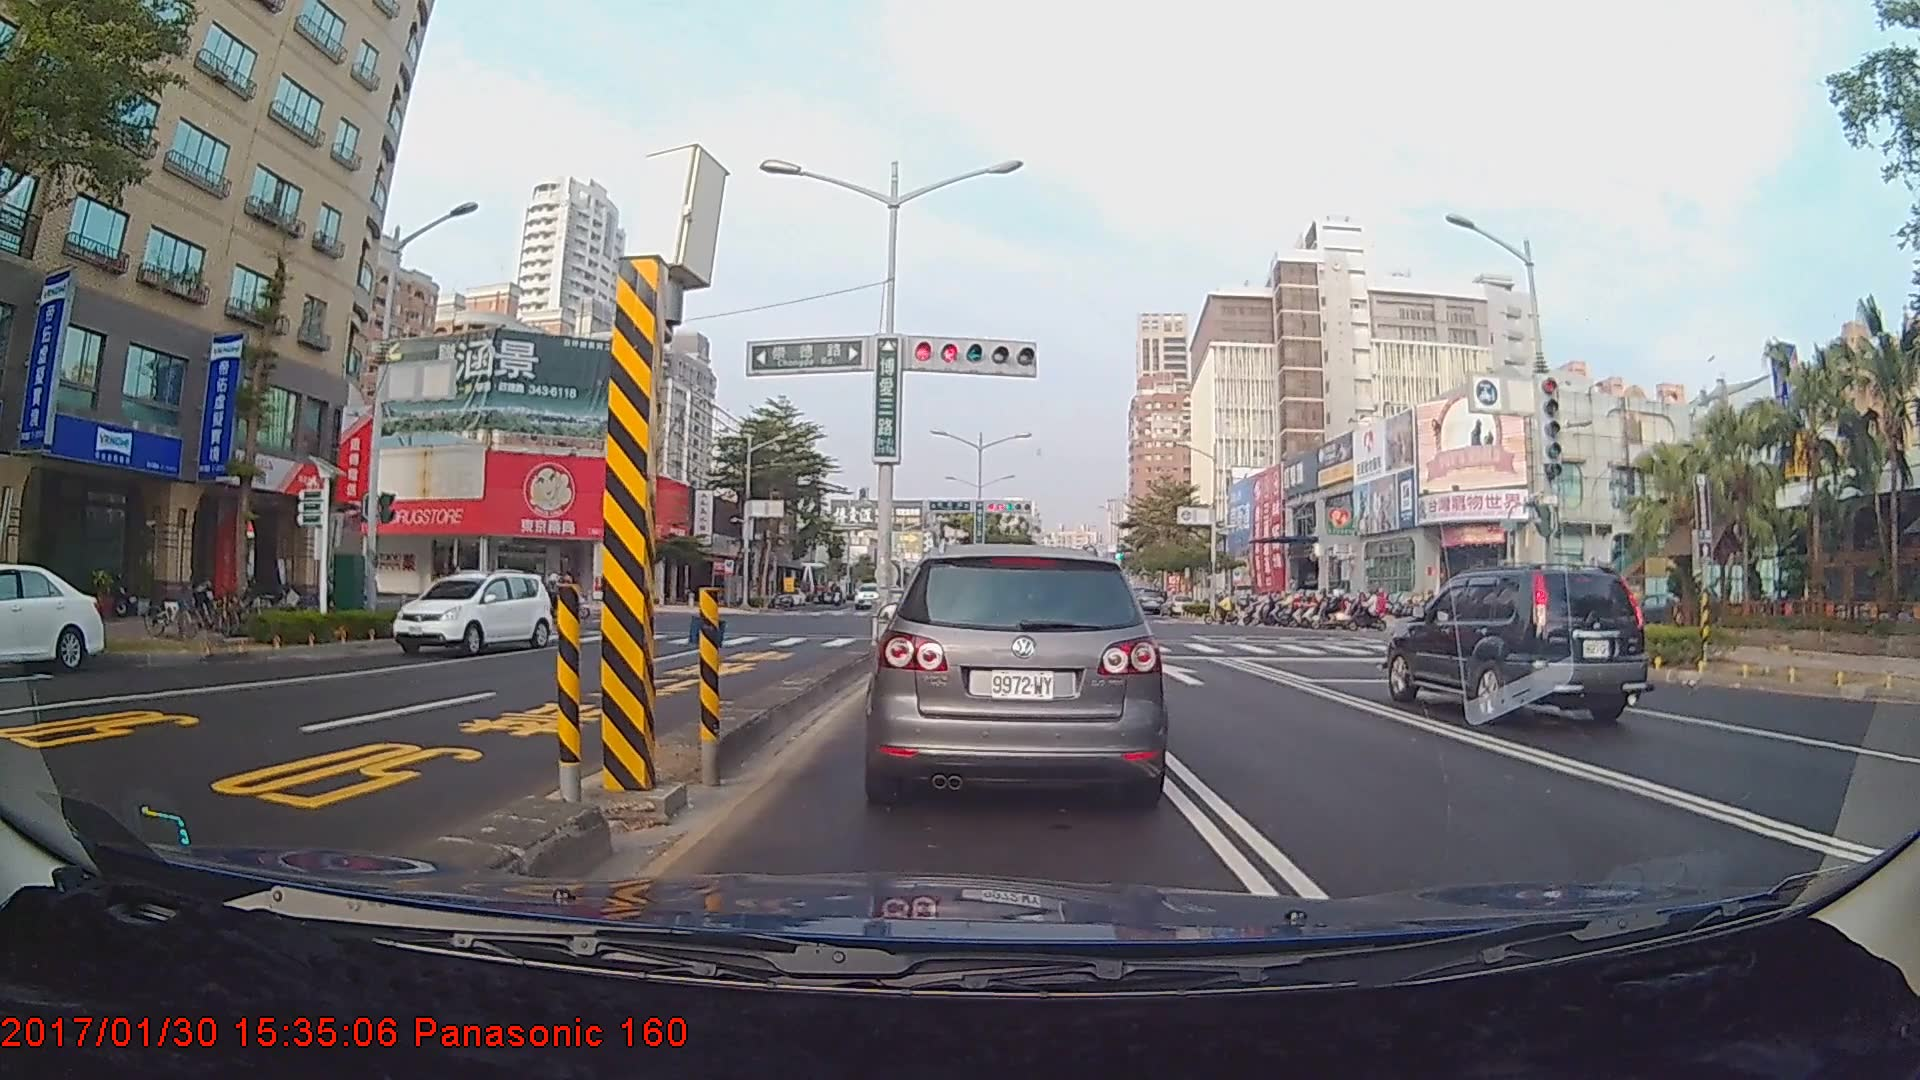vehicle: (860, 534, 1171, 808), (1386, 560, 1647, 723), (393, 568, 554, 654), (0, 564, 108, 674)
